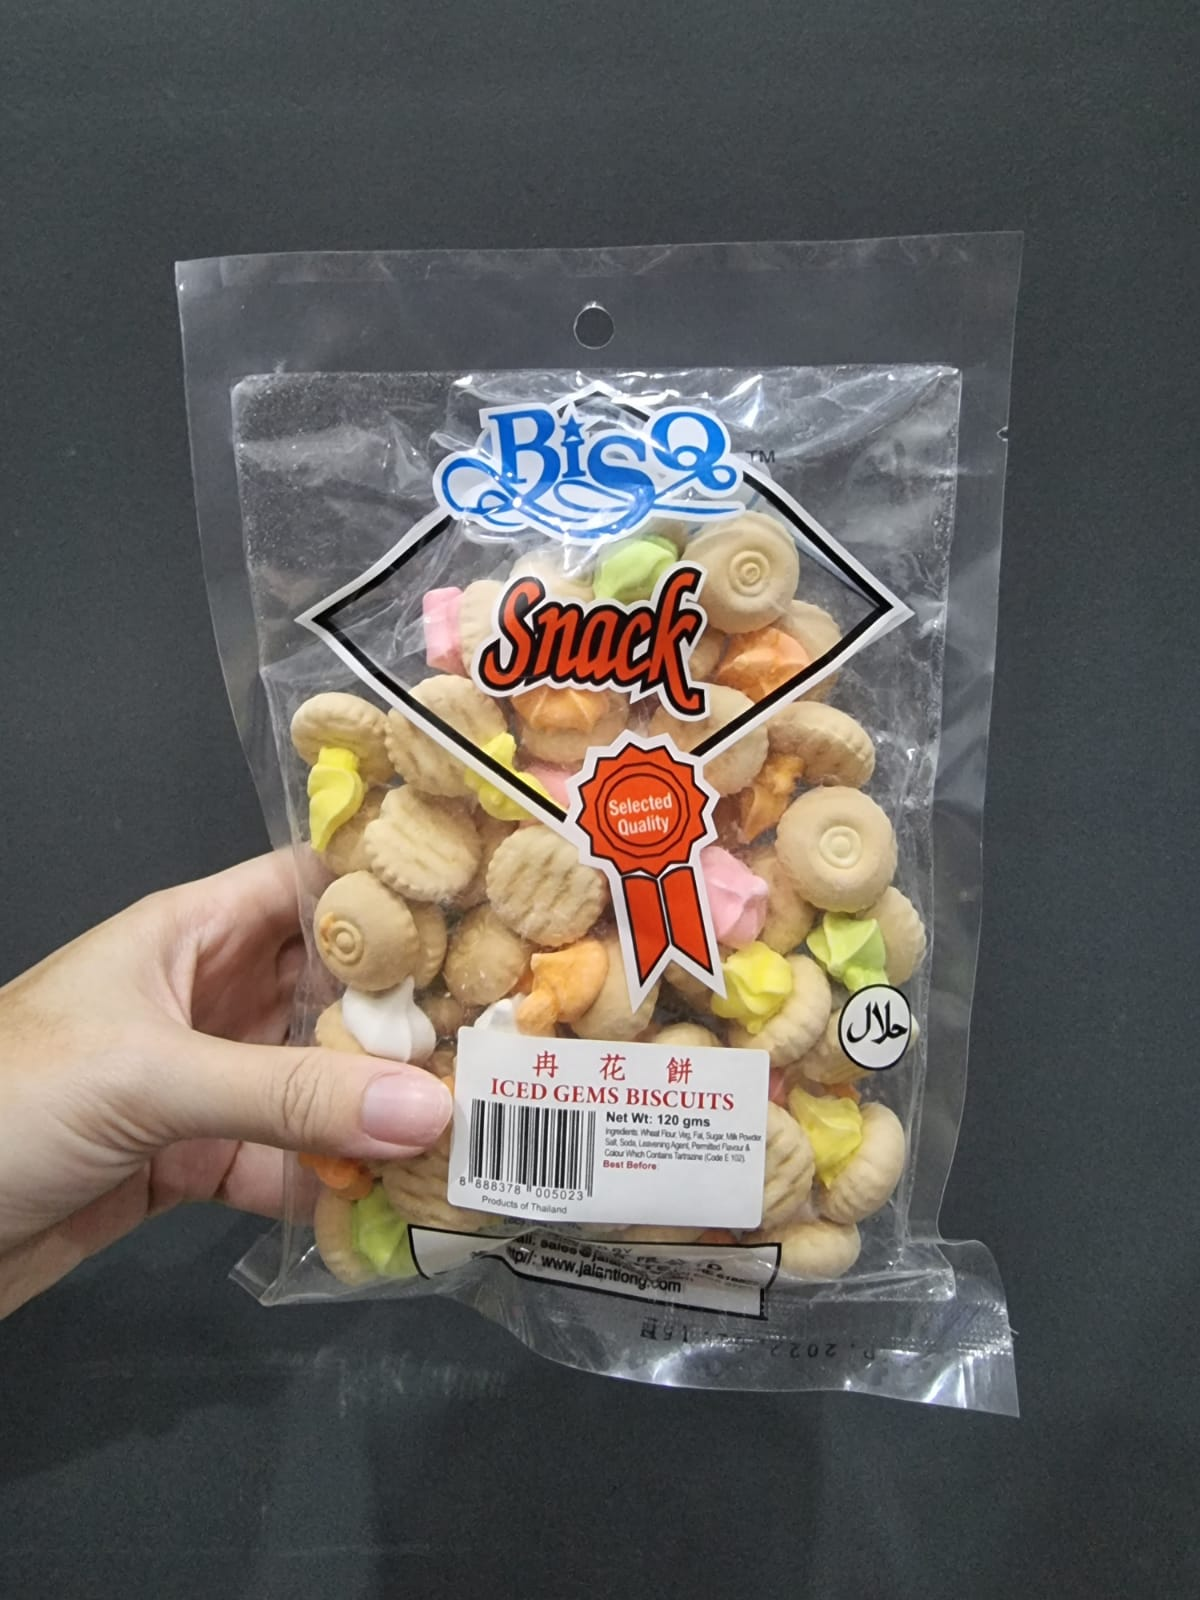Biscuits: (284, 373, 928, 1254)
